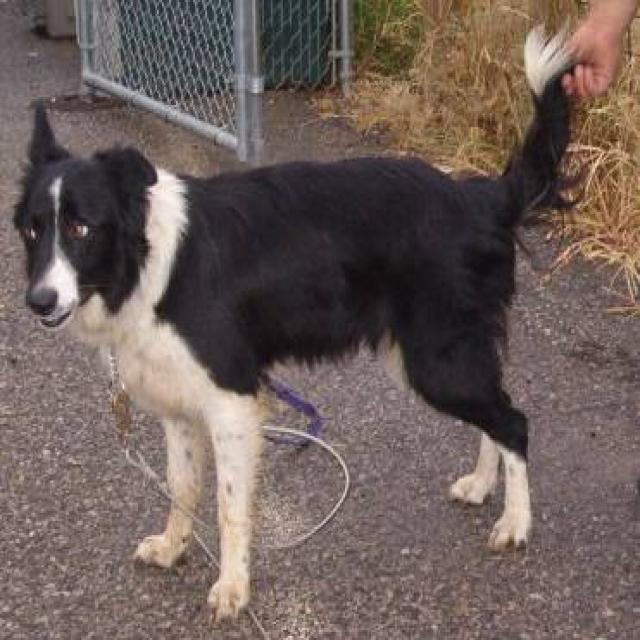dog: (11, 16, 586, 624)
